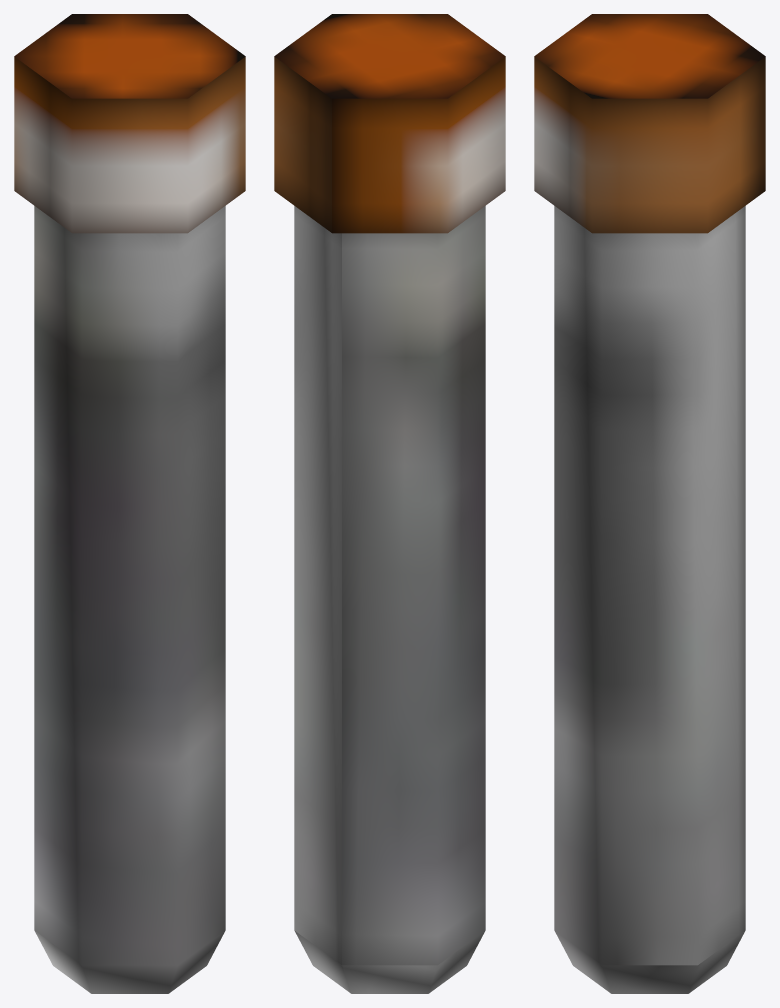
Rendered from TestTube_Asset.fbx.
The picture shows the model from 3 angles, left to right: view 1: azimuth 30°, elevation 25°; view 2: azimuth 150°, elevation 25°; view 3: azimuth 270°, elevation 25°; orthographic projection.
Visible parts, largest first — view 1: TestTube; view 2: TestTube; view 3: TestTube.
Part boxes in pixels (x1=…): TestTube: x1=14, y1=14, x2=245, y2=993; TestTube: x1=274, y1=14, x2=505, y2=993; TestTube: x1=534, y1=14, x2=765, y2=993.
Bounding box in the file's own units: 2.1 × 2.42 × 10.72.
2 materials, 2 textured.
